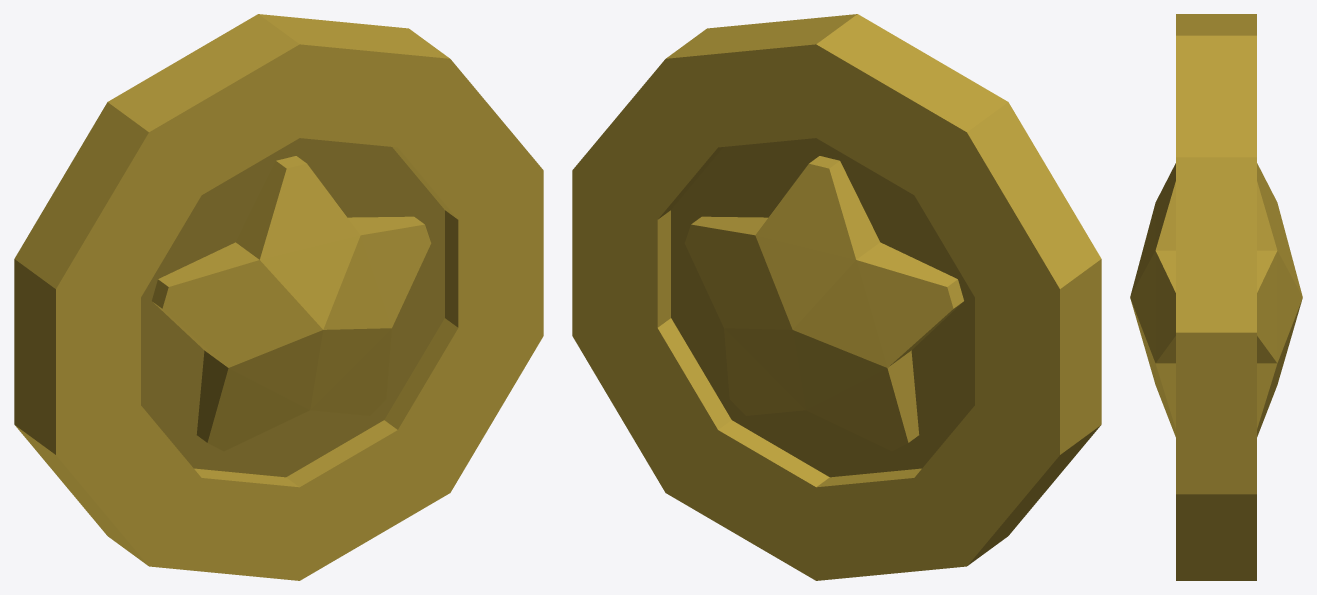
File: coin.glb
3 renders of one model, left to right at view 1: azimuth 30°, elevation 25°; view 2: azimuth 150°, elevation 25°; view 3: azimuth 270°, elevation 25°, orthographic. The views are drawn at different scales.
Parts seen in each view (by area): view 1: Coin; view 2: Coin; view 3: Coin.
Boxes of the visible parts, x1,y1,x2,y2 form: Coin: (14,14,543,580); Coin: (572,14,1101,580); Coin: (1130,14,1302,580).
Bounding box in the file's own units: 0.745 × 0.7834 × 0.2344.
